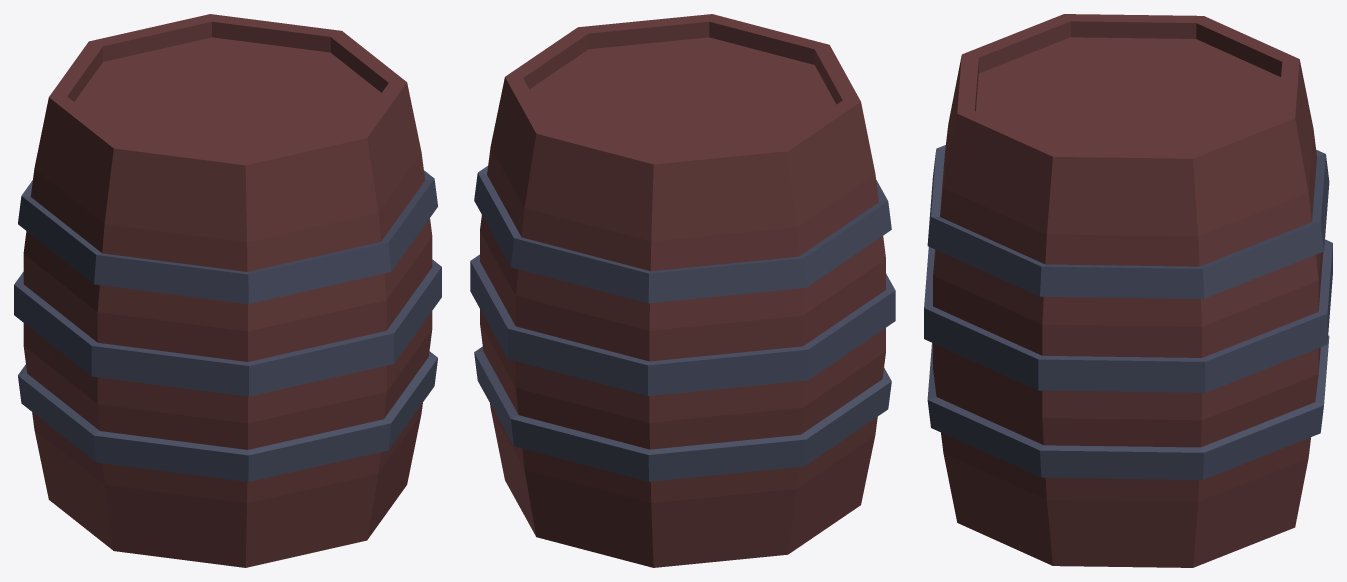
The model's file is Barrel.fbx.
3 views of the same model, side by side, from view 1: azimuth 30°, elevation 25°; view 2: azimuth 150°, elevation 25°; view 3: azimuth 270°, elevation 25° (orthographic).
Parts seen in each view (by area): view 1: Cylinder.018; view 2: Cylinder.018; view 3: Cylinder.018.
Part boxes in pixels (x1,y1,x2,y2): Cylinder.018: (14, 14, 441, 567); Cylinder.018: (470, 14, 895, 567); Cylinder.018: (924, 14, 1332, 567).
Size of the model in its own units: 33.18 by 36.63 by 33.18.
